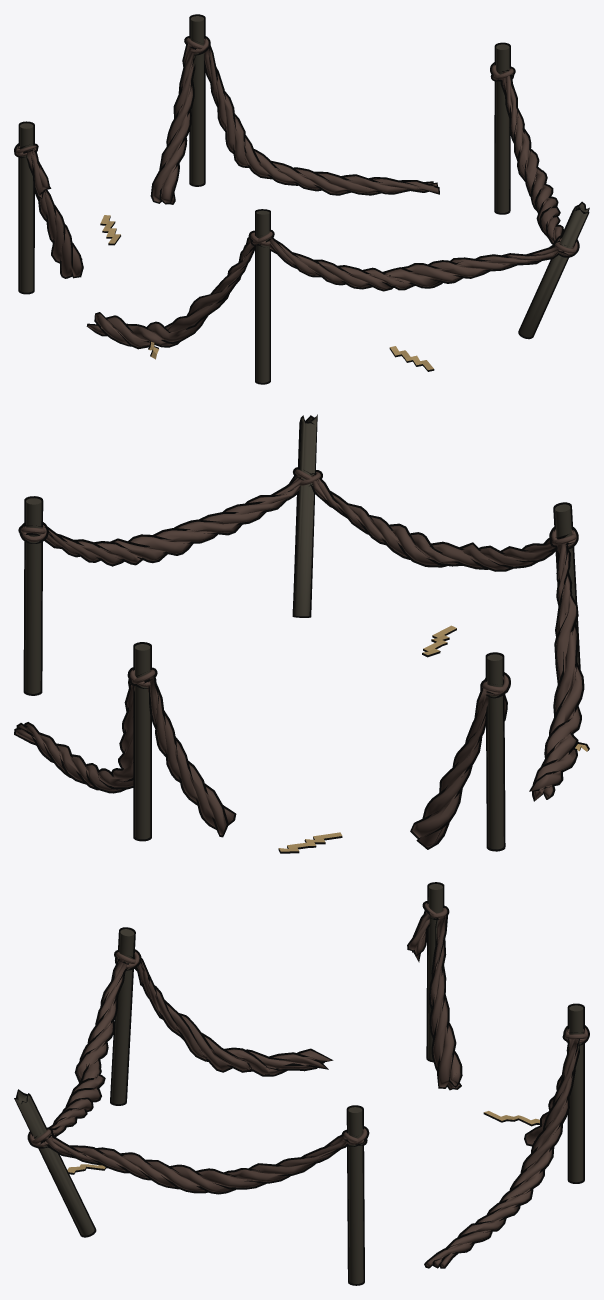
Rendered from env_treehousing_bad.glb.
3 renders of one model, top to bottom at view 1: azimuth 30°, elevation 25°; view 2: azimuth 150°, elevation 25°; view 3: azimuth 270°, elevation 25°, orthographic. The views are drawn at different scales.
Visible parts, largest first — view 1: Circle.002; view 2: Circle.002; view 3: Circle.002.
Part boxes in pixels (<box>): Circle.002: <box>14,14,589,384</box>; Circle.002: <box>14,414,589,853</box>; Circle.002: <box>14,882,589,1285</box>.
Bounding box in the file's own units: 6 × 2.15 × 6.22.
2 materials, 1 textured.
